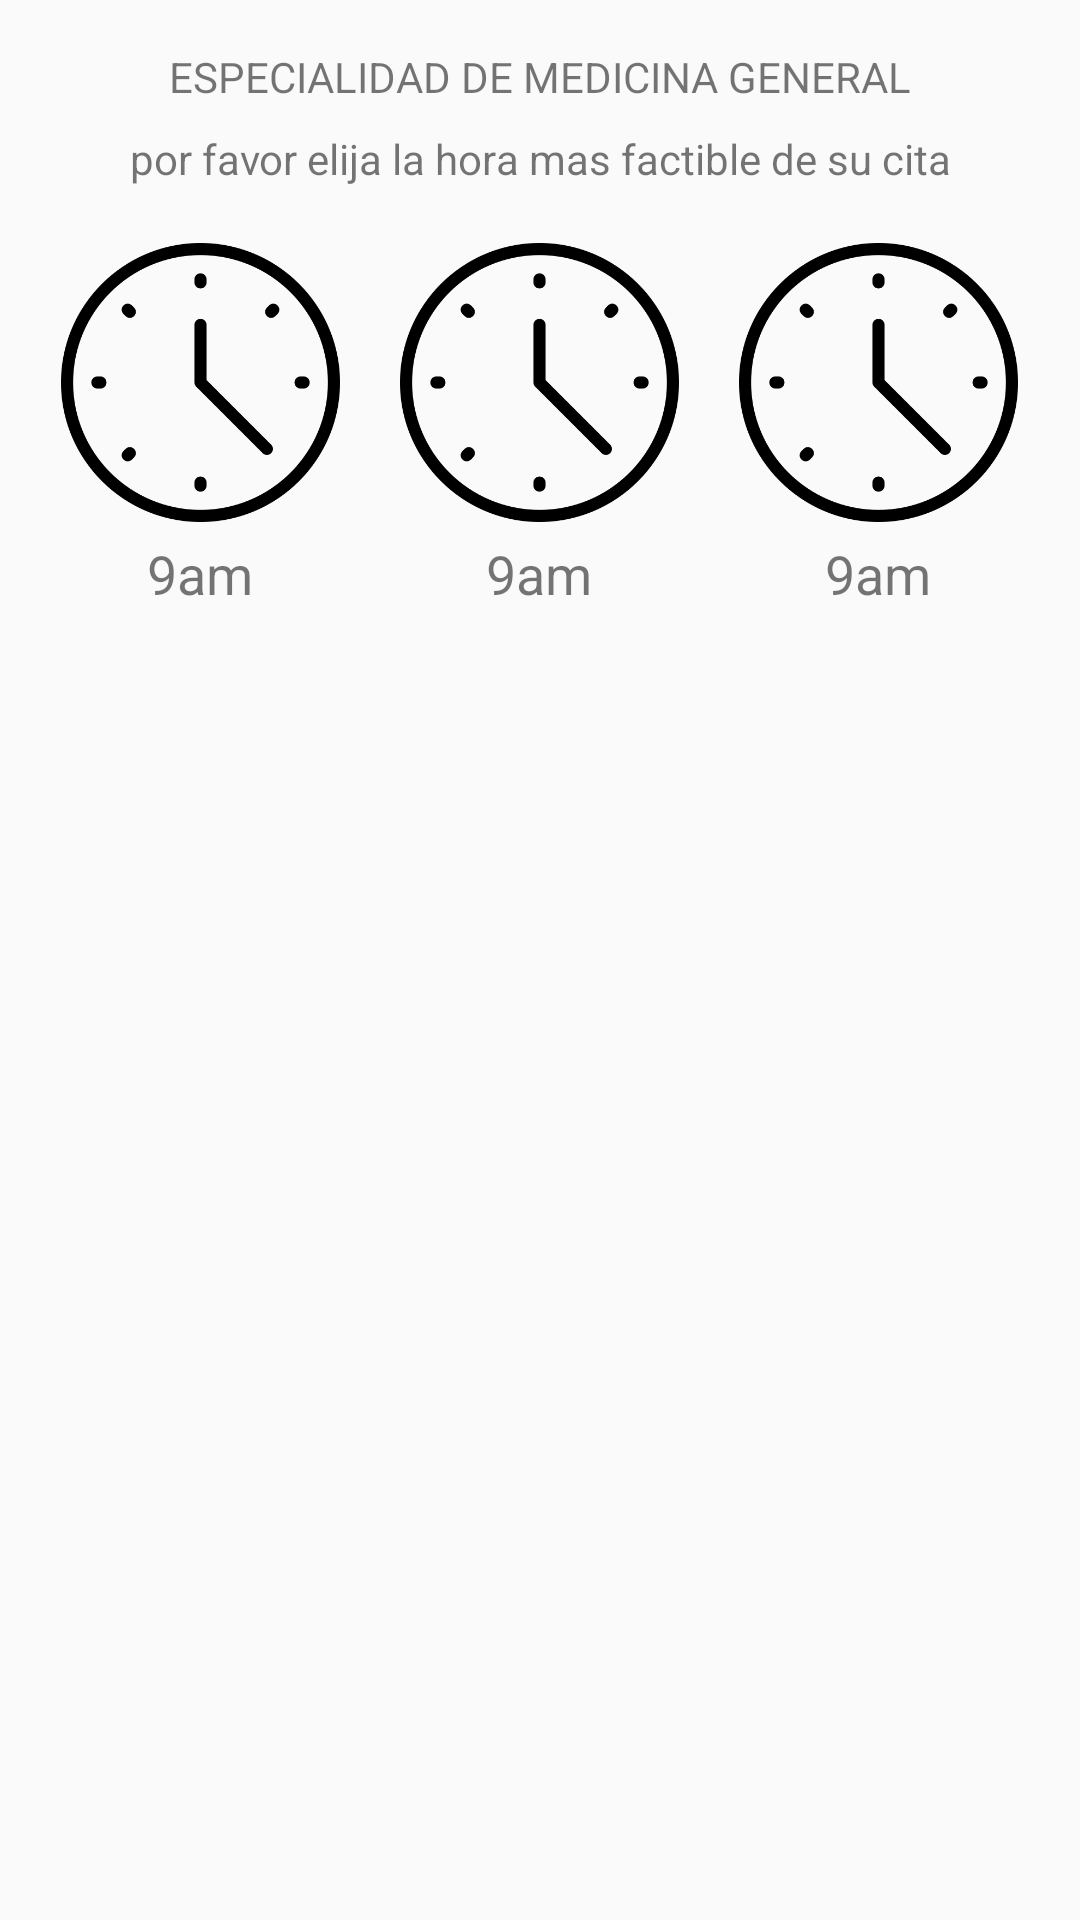

Named icons in this screenshot (1080 × 1920) and their bounding boxes, (left=x1, top=y1, right=x2, bottom=y2):
reloj: (left=61, top=243, right=340, bottom=522), (left=400, top=243, right=679, bottom=522), (left=739, top=243, right=1018, bottom=522)
